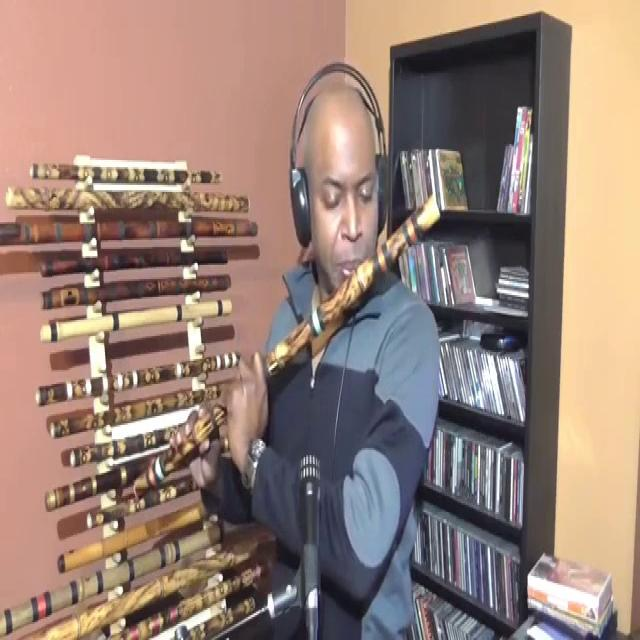Flute: (117, 181, 454, 520)
